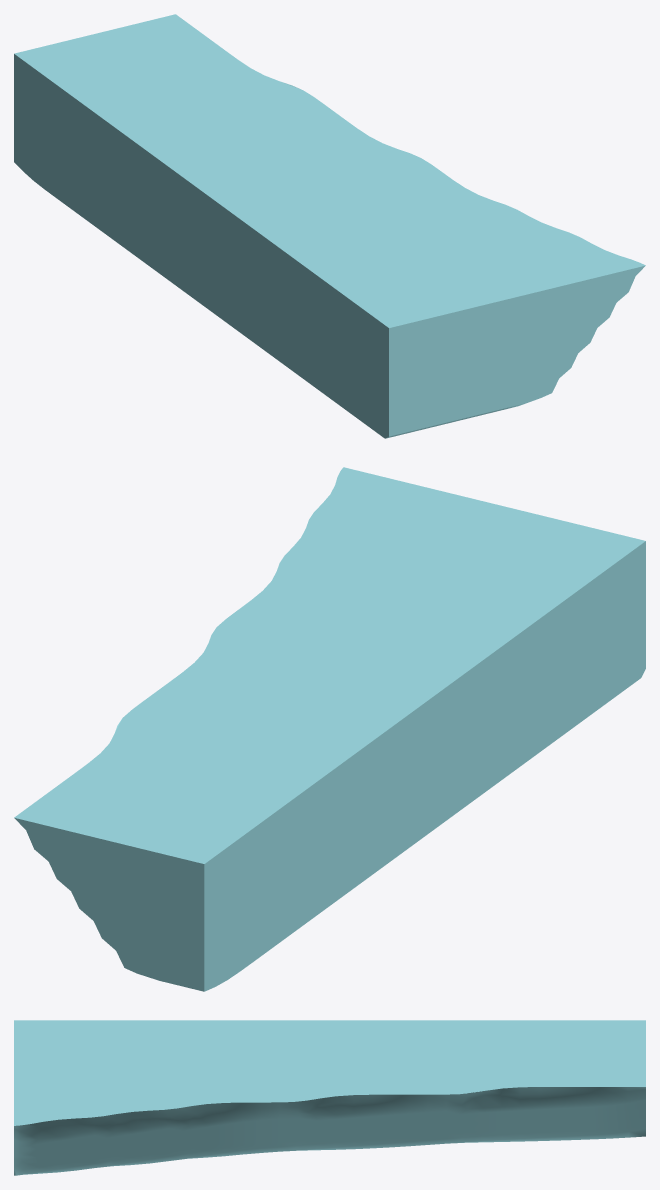
Rendered from water.glb.
3 views of the same model, one above another, from view 1: azimuth 30°, elevation 25°; view 2: azimuth 150°, elevation 25°; view 3: azimuth 270°, elevation 25° (orthographic). The views are drawn at different scales.
Visible parts, largest first — view 1: river; view 2: river; view 3: river.
Boxes of the visible parts, <box> form: river: <box>14,14,645,438</box>; river: <box>14,467,645,991</box>; river: <box>14,1020,645,1175</box>.
Bounding box in the file's own units: 26.03 × 10.99 × 65.82.
